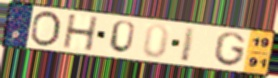0: (141, 22, 172, 60), (106, 19, 136, 55)
G: (213, 31, 247, 68)
H: (61, 14, 100, 53)
I: (178, 25, 198, 64)
O: (28, 10, 63, 48)
